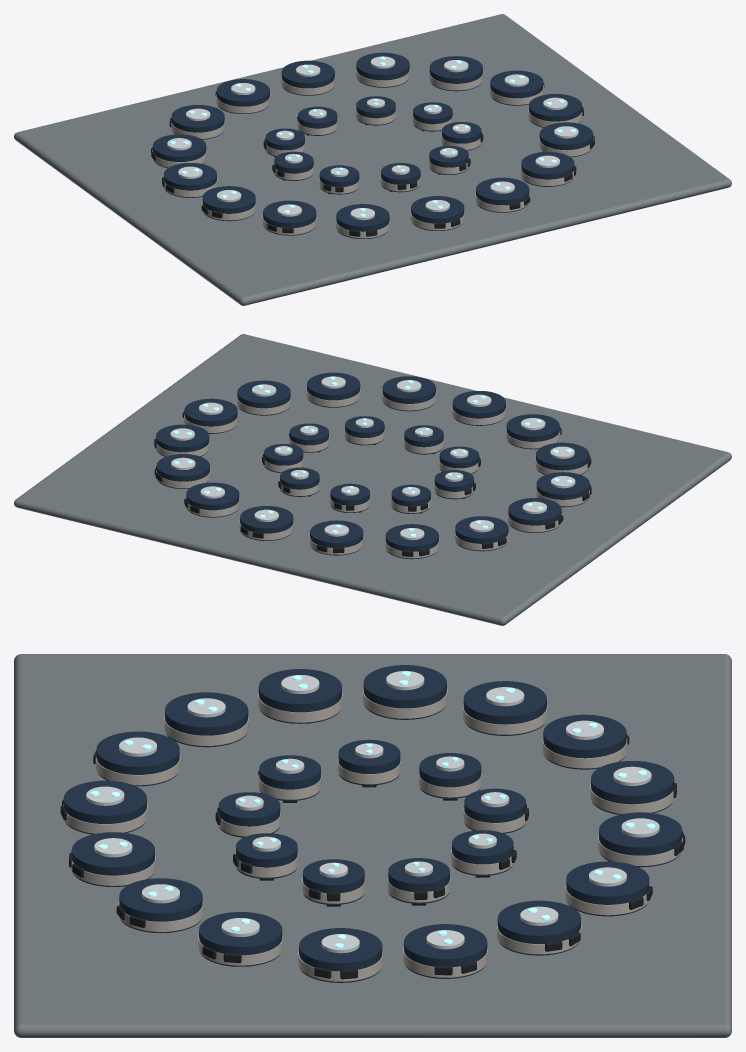
The model's file is robots-58.glb.
The picture shows the model from 3 angles, top to bottom: view 1: azimuth 30°, elevation 25°; view 2: azimuth 150°, elevation 25°; view 3: azimuth 270°, elevation 25°; orthographic projection. The views are drawn at different scales.
Visible parts, largest first — view 1: surface, outer, rims, inner, caps, windows, indicators; view 2: surface, outer, rims, inner, caps, windows, indicators; view 3: surface, outer, rims, inner, caps, windows, indicators.
Part boxes in pixels (box(x1,y1,x2,y2)): surface: box(14, 14, 731, 305); outer: box(153, 52, 592, 238); rims: box(152, 68, 593, 238); inner: box(265, 96, 481, 194); caps: box(167, 56, 578, 220); windows: box(151, 83, 594, 236); indicators: box(170, 56, 575, 216); surface: box(14, 334, 731, 625); outer: box(156, 372, 589, 559); rims: box(156, 388, 590, 558); inner: box(264, 416, 479, 513); caps: box(170, 376, 575, 540); windows: box(154, 411, 591, 556); indicators: box(173, 376, 572, 536); surface: box(14, 654, 731, 1037); outer: box(63, 665, 682, 982); rims: box(63, 688, 682, 981); inner: box(218, 739, 525, 904); caps: box(86, 671, 659, 953); windows: box(60, 734, 685, 979); indicators: box(90, 671, 655, 948).
Size of the model in its own units: 3.8 by 0.205 by 3.07.
